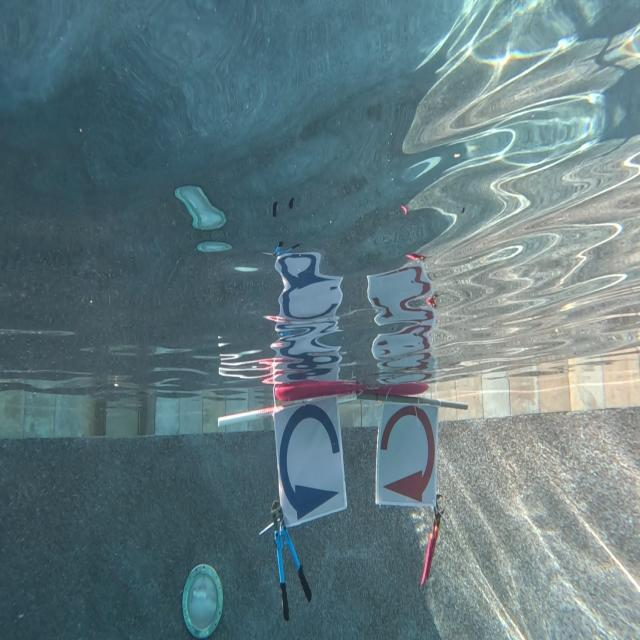blue_side: (273, 400, 345, 520)
red_side: (373, 402, 435, 507)
